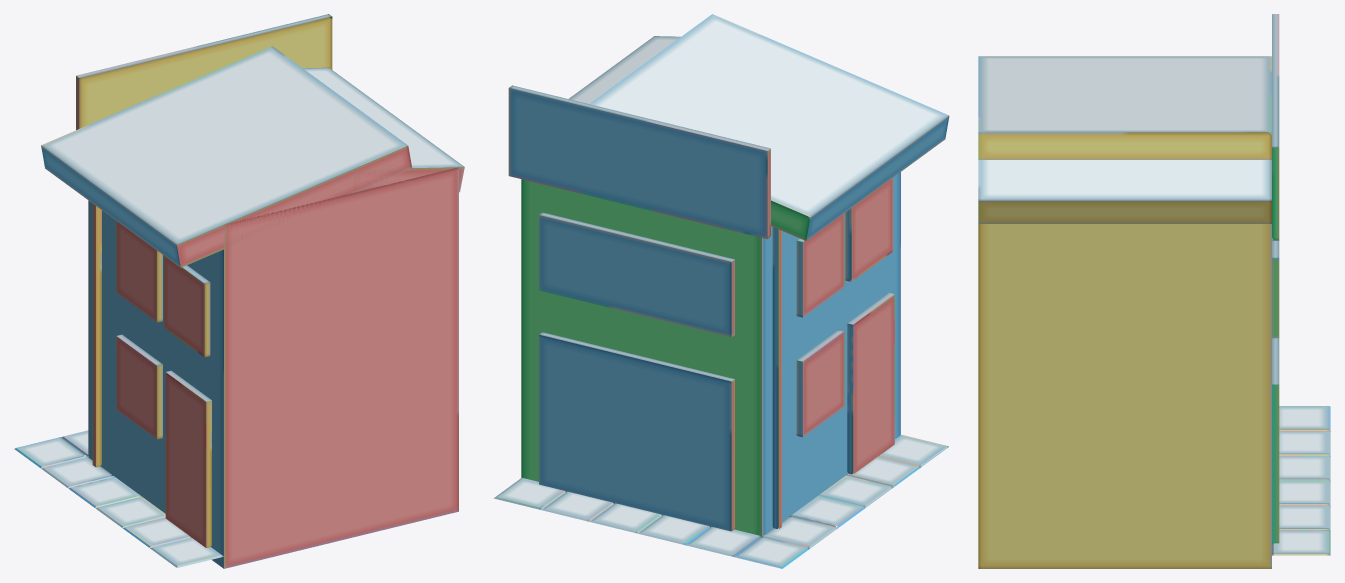
File: House03.fbx
3 renders of one model, left to right at view 1: azimuth 30°, elevation 25°; view 2: azimuth 150°, elevation 25°; view 3: azimuth 270°, elevation 25°, orthographic. The views are drawn at different scales.
Visible parts, largest first — view 1: cuboid_6, cuboid_15, cuboid_14, cuboid_17, cuboid_16, cuboid_18, cuboid_21, cuboid_20, cuboid_19, cuboid_2, cuboid_5, cuboid_3 (+3 smaller); view 2: cuboid_6, cuboid_15, cuboid_12, cuboid_14, cuboid_13, cuboid_17, cuboid_18, cuboid_20, cuboid_21, cuboid_19, cuboid_16, cuboid_5 (+10 smaller); view 3: cuboid_6, cuboid_15, cuboid_16, cuboid_14, cuboid_12, cuboid_11, cuboid_7, cuboid_8, cuboid_9, cuboid_5, cuboid_10, cuboid_13.
Part boxes in pixels (left/top/right/bottom): cuboid_6: left=88, top=167, right=458, bottom=568; cuboid_15: left=41, top=46, right=412, bottom=267; cuboid_14: left=76, top=14, right=332, bottom=129; cuboid_17: left=165, top=370, right=211, bottom=547; cuboid_16: left=303, top=67, right=464, bottom=193; cuboid_18: left=116, top=334, right=162, bottom=439; cuboid_21: left=164, top=256, right=210, bottom=357; cuboid_20: left=116, top=221, right=162, bottom=322; cuboid_19: left=92, top=204, right=101, bottom=467; cuboid_2: left=69, top=477, right=141, bottom=508; cuboid_5: left=14, top=437, right=87, bottom=468; cuboid_3: left=96, top=496, right=165, bottom=528; cuboid_6: left=521, top=172, right=900, bottom=536; cuboid_15: left=589, top=14, right=949, bottom=240; cuboid_12: left=539, top=332, right=734, bottom=531; cuboid_14: left=508, top=85, right=770, bottom=238; cuboid_13: left=539, top=212, right=734, bottom=337; cuboid_17: left=847, top=293, right=894, bottom=474; cuboid_18: left=796, top=329, right=844, bottom=437; cuboid_20: left=796, top=213, right=844, bottom=317; cuboid_21: left=845, top=178, right=893, bottom=281; cuboid_19: left=772, top=227, right=781, bottom=528; cuboid_16: left=569, top=36, right=680, bottom=103; cuboid_5: left=734, top=536, right=809, bottom=568; cuboid_6: left=978, top=224, right=1271, bottom=568; cuboid_15: left=978, top=56, right=1271, bottom=159; cuboid_16: left=978, top=132, right=1271, bottom=223; cuboid_14: left=1272, top=14, right=1279, bottom=240; cuboid_12: left=1272, top=338, right=1279, bottom=544; cuboid_11: left=1272, top=530, right=1330, bottom=555; cuboid_7: left=1279, top=430, right=1330, bottom=456; cuboid_8: left=1279, top=455, right=1330, bottom=480; cuboid_9: left=1279, top=480, right=1330, bottom=505; cuboid_5: left=1279, top=406, right=1330, bottom=431; cuboid_10: left=1279, top=505, right=1330, bottom=530; cuboid_13: left=1272, top=240, right=1279, bottom=338.
Bounding box in the file's own units: 310 × 400 × 300.
1 material, 1 textured.
